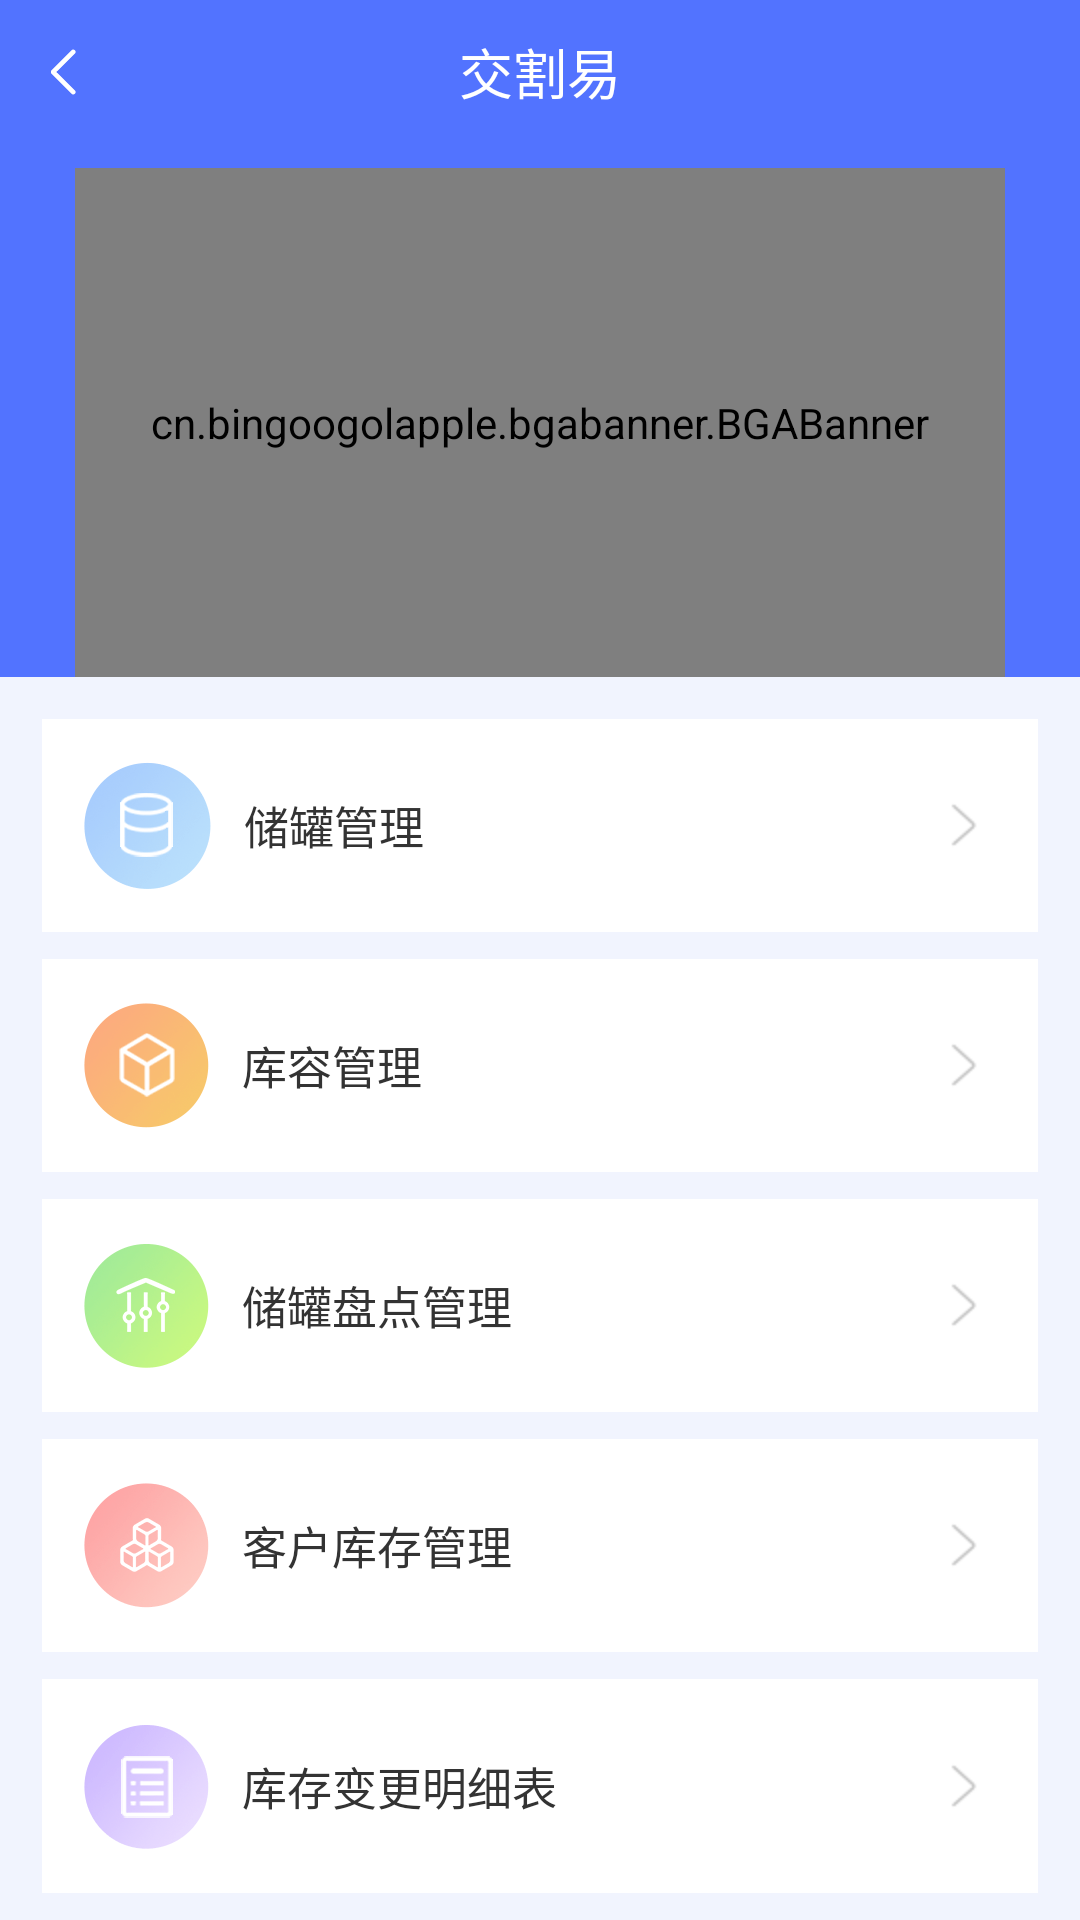

Icon click points for this 1080w x 1920h phone screenshot, format [x,y]:
client store manager: [146,1545]
detail table: [146,1787]
left arrow: [63,72]
right: [963,825], [963,1065], [963,1305], [963,1545], [963,1786]
store capacity manager: [146,1065]
store manager: [147,826]
store pandian manager: [146,1306]
